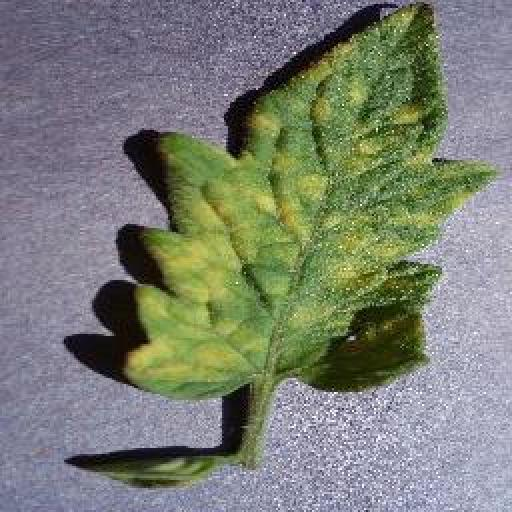disease_tomato: (118, 2, 494, 394)
